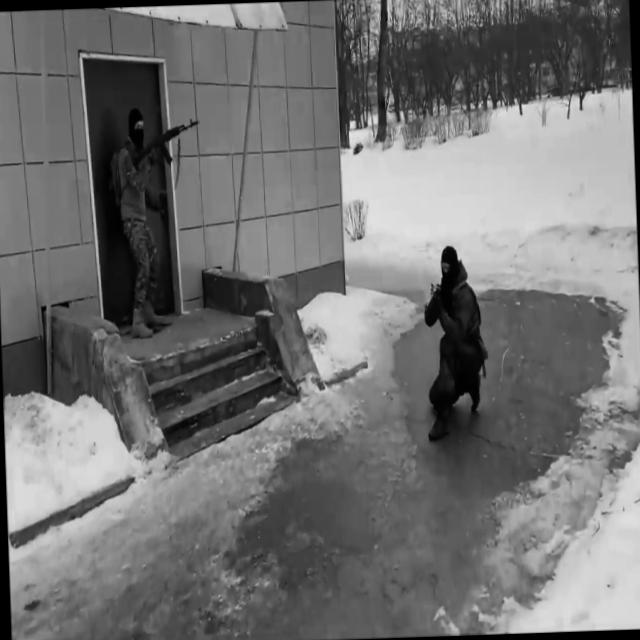gun: (130, 117, 200, 168), (422, 276, 443, 312)
person with a gun: (116, 106, 207, 339), (422, 244, 485, 442)
